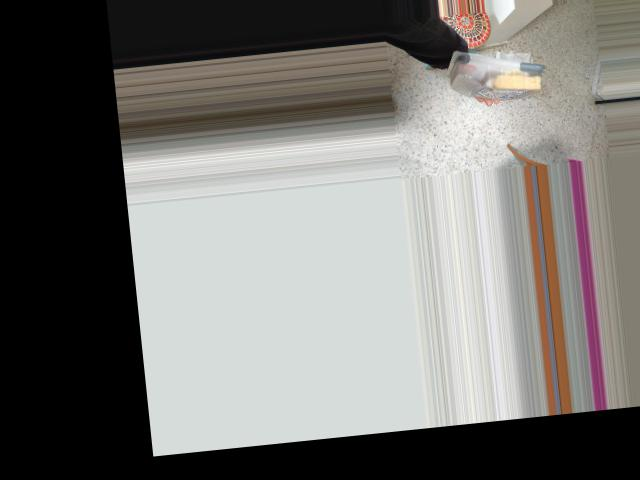cheese: (447, 39, 547, 107)
